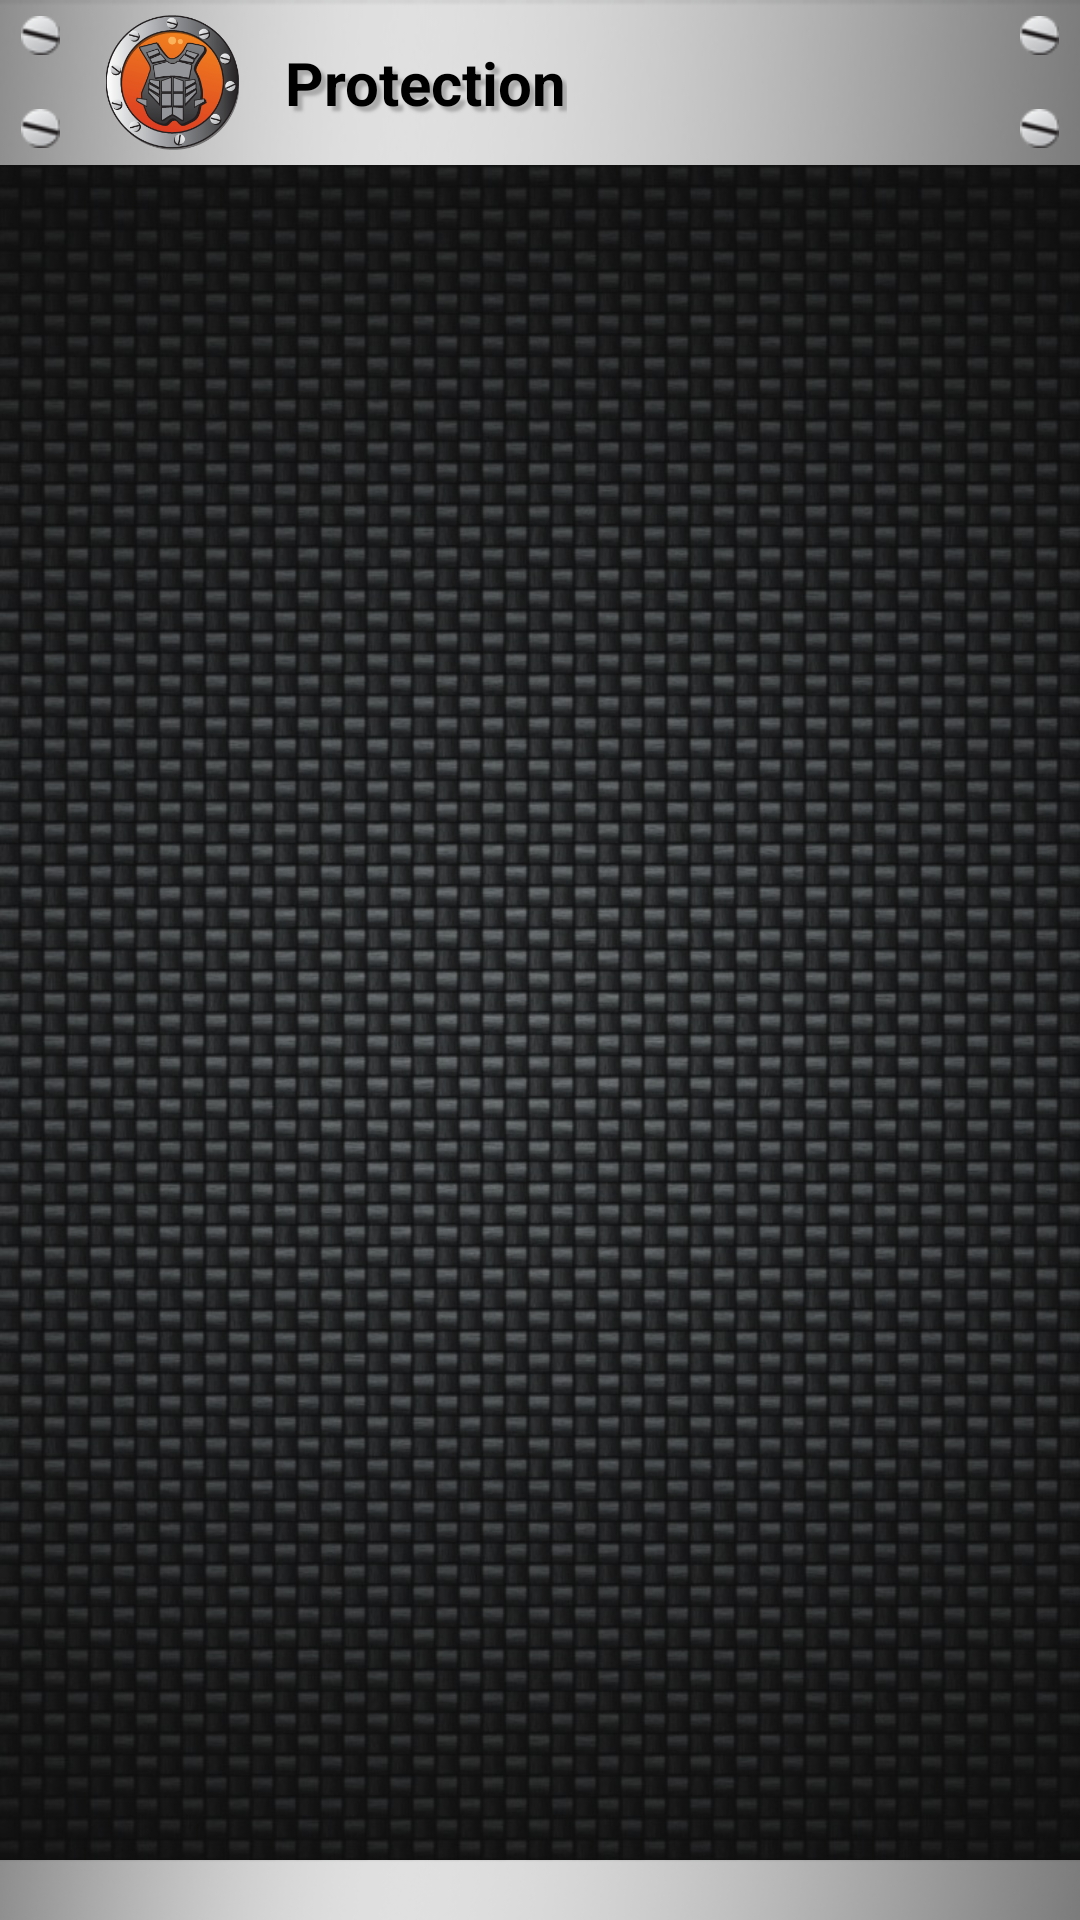

Named icons in this screenshot (1080w x 1920h) and their bounding boxes, (left=x1, top=y1, right=x2, bottom=y2):
proteccion: (left=105, top=15, right=239, bottom=150)
tornillo: (left=21, top=16, right=60, bottom=55), (left=1020, top=16, right=1059, bottom=55), (left=21, top=109, right=60, bottom=148), (left=1020, top=109, right=1059, bottom=148)
